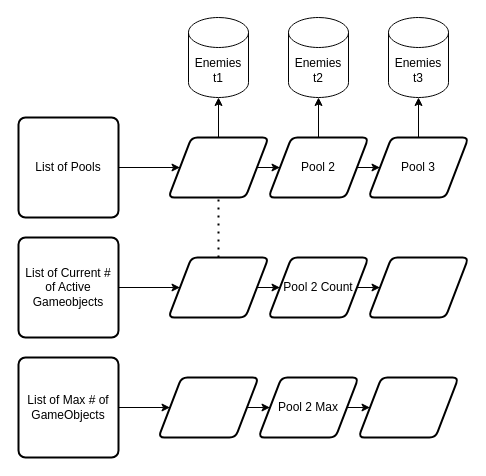
This 486x476 diagram has some shape labels left out. The centre of each missing label's shape, as x and y in pixels:
"Pool 1" belongs at point 218,167.
"Pool 1 Count" belongs at point 218,287.
"Pool 1 Max" belongs at point 208,407.
"Pool 3 Count" belongs at point 418,287.
"Pool 3 Max" belongs at point 408,407.
